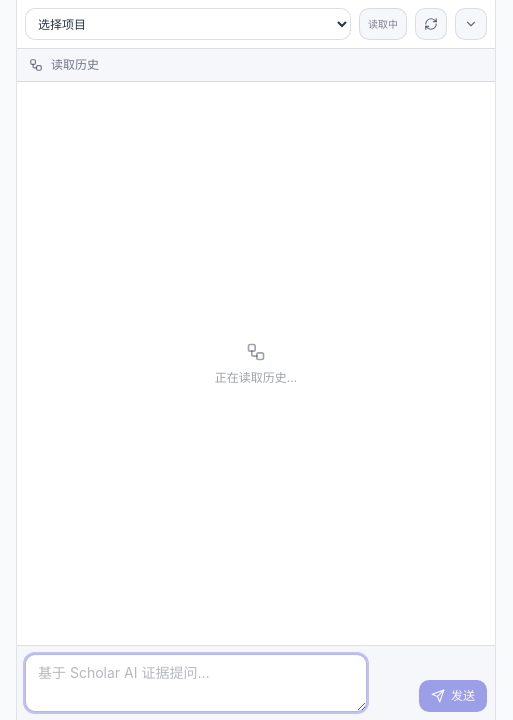
Test: AgentSidebar › loads only the receipt created by the current sidebar ask
In the text box named "侧栏提问": (196, 683) [25,654,367,712], type "How does the current ask save a fresh receipt?"
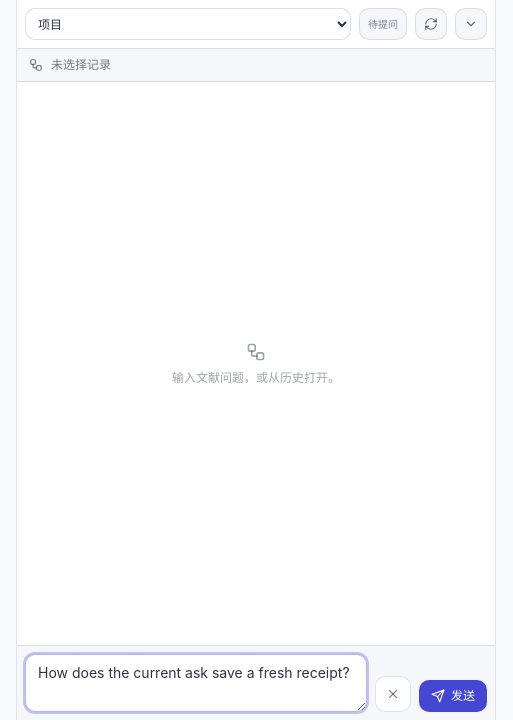
Click the button "发送": (453, 696) [419,680,487,712]
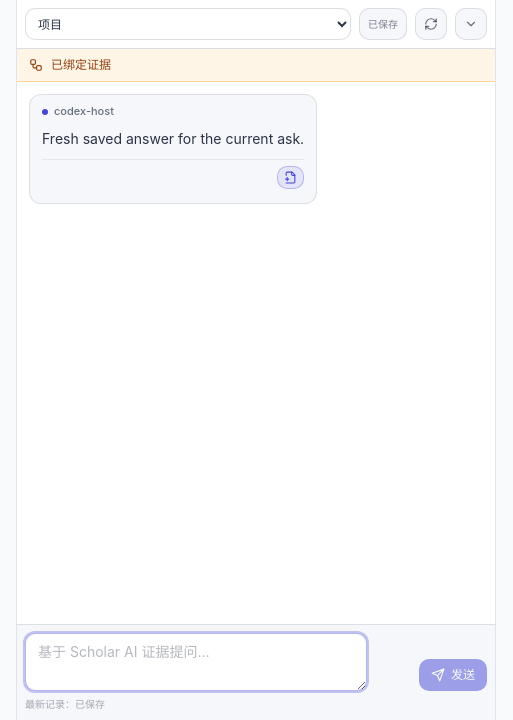
Expected: the text "Fresh saved answer for the current ask." is shown, [42,127,304,151]
